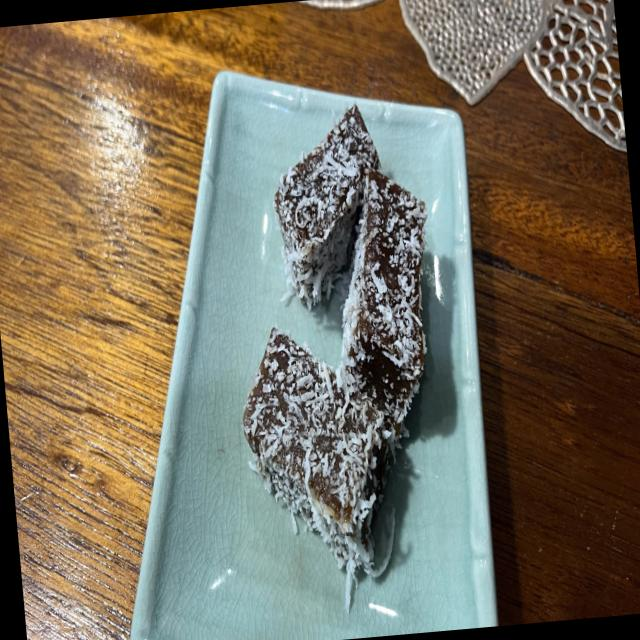kaswi: (243, 328, 396, 608), (341, 168, 426, 438), (274, 105, 378, 308)
